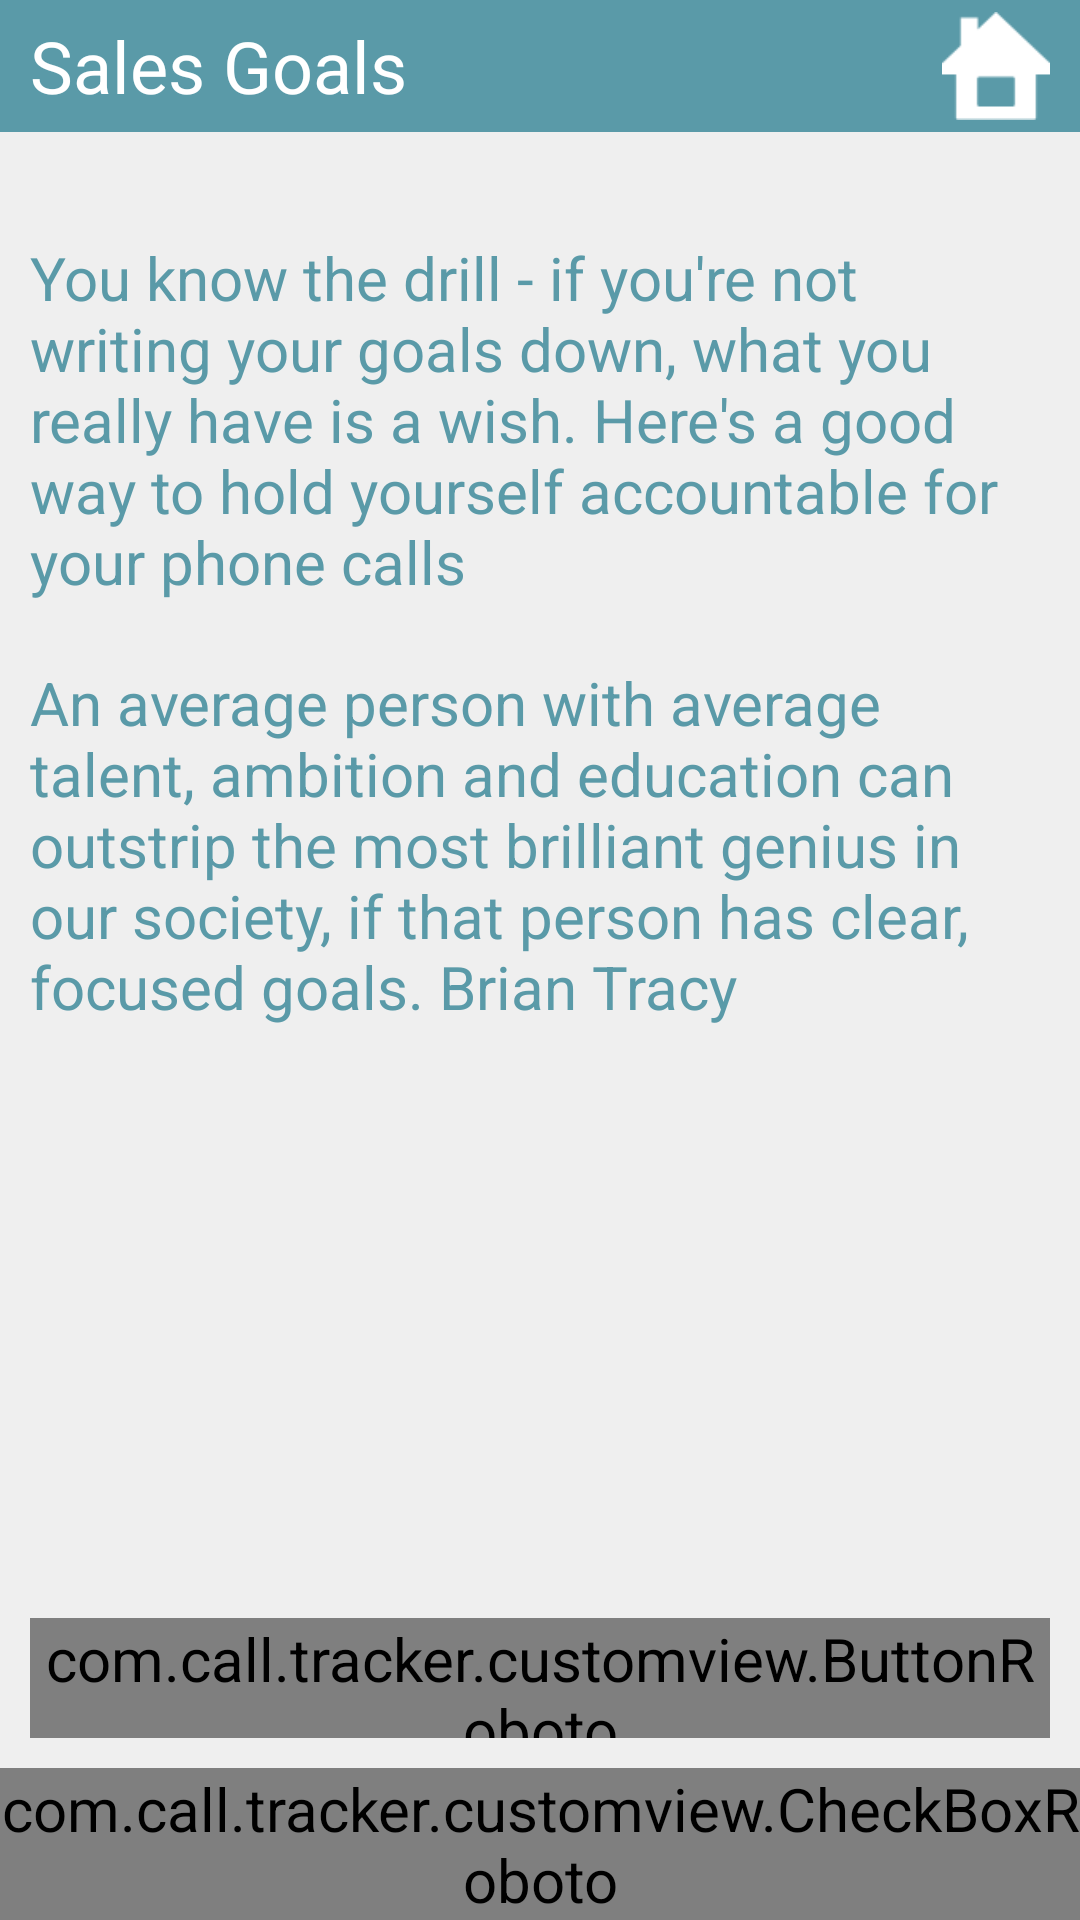

Where to tap for icons on this 1080*1920 app screen, as (x=x, y=y):
home: (x=996, y=66)
